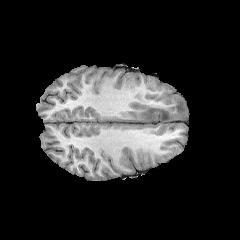glioma: (128, 97, 187, 120)
